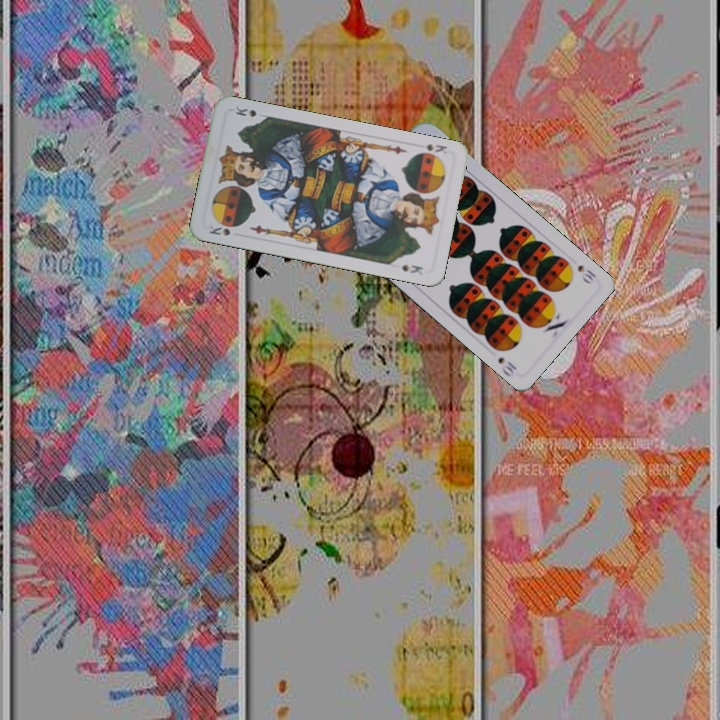S10: (573, 261, 599, 286)
SK: (205, 221, 233, 239), (422, 140, 450, 157)
